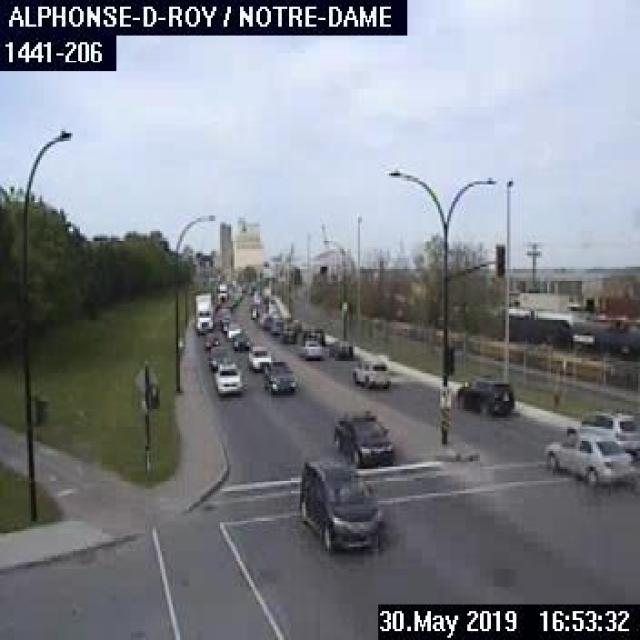vehicle: (295, 457, 379, 551), (540, 426, 636, 489), (328, 407, 398, 468), (562, 403, 638, 452), (456, 376, 514, 414), (260, 359, 296, 393), (349, 354, 389, 384), (212, 359, 244, 396), (191, 290, 214, 334), (327, 336, 356, 360), (245, 341, 268, 369), (205, 345, 228, 368), (300, 338, 323, 357), (232, 331, 251, 351), (303, 325, 324, 343), (279, 322, 295, 342), (224, 322, 241, 340), (203, 331, 220, 347), (258, 312, 271, 328), (269, 317, 282, 333)
